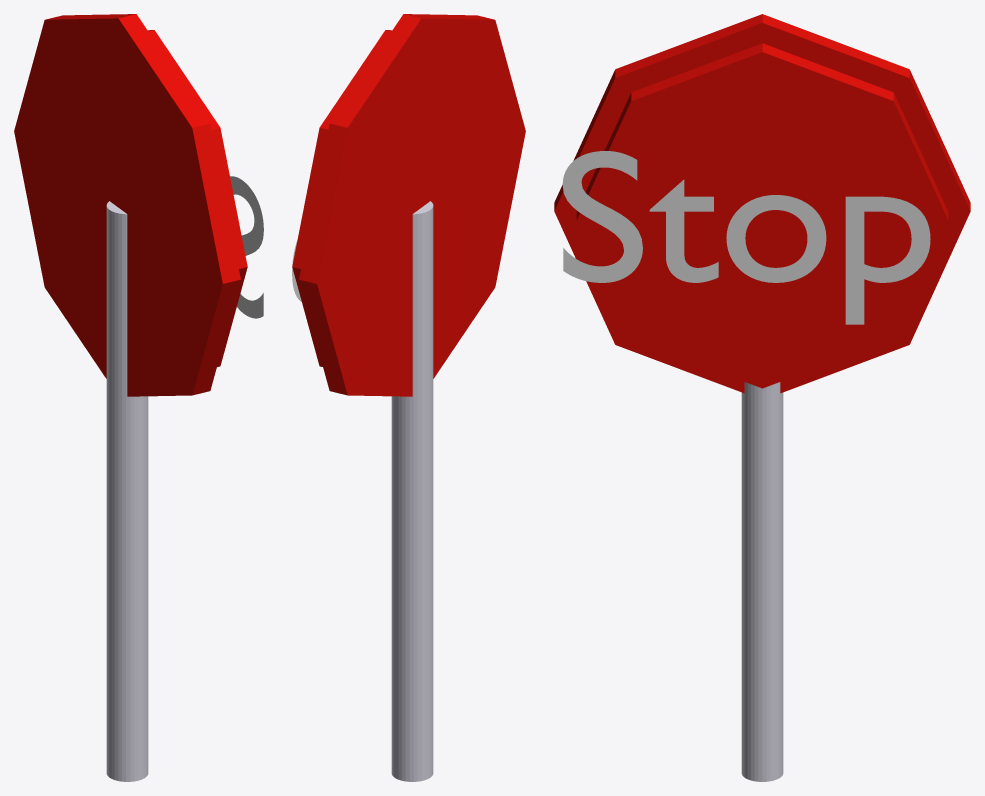
File: StopSign.fbx
3 views of the same model, side by side, from view 1: azimuth 30°, elevation 25°; view 2: azimuth 150°, elevation 25°; view 3: azimuth 270°, elevation 25° (orthographic).
Parts seen in each view (by area): view 1: Cylinder.001, Cylinder, Text; view 2: Cylinder.001, Cylinder; view 3: Cylinder.001, Text, Cylinder.
Part boxes in pixels (<box>): Cylinder.001: <box>14,14,247,396</box>; Cylinder: <box>106,201,148,781</box>; Text: <box>230,176,263,318</box>; Cylinder.001: <box>292,14,525,396</box>; Cylinder: <box>391,201,433,781</box>; Cylinder.001: <box>554,14,970,393</box>; Text: <box>562,151,930,324</box>; Cylinder: <box>741,382,783,781</box>.
Bounding box in the file's own units: 3 × 40 × 20.
